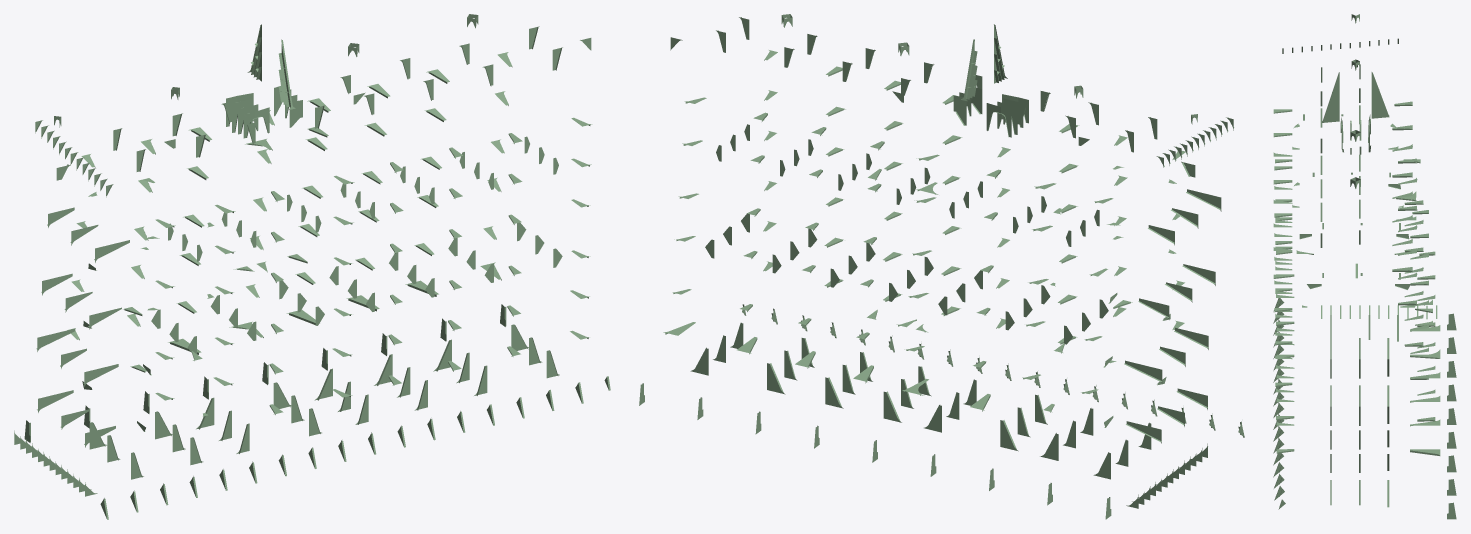
The model's file is NO_2_WING_WATER_BLT_TK_SB.glb.
The picture shows the model from 3 angles, left to right: view 1: azimuth 30°, elevation 25°; view 2: azimuth 150°, elevation 25°; view 3: azimuth 270°, elevation 25°; orthographic projection. The views are drawn at different scales.
Visible parts, largest first — view 1: no part large enough to name; view 2: no part large enough to name; view 3: PL_CraneSeatBracketxNo2SideTankS_012001-40_NVE36_2014, PL_CraneSeatBracketxNo2SideTankS_011002-40_NVE36_2014.
Boxes of the visible parts, left/top/right/bottom form: PL_CraneSeatBracketxNo2SideTankS_012001-40_NVE36_2014: left=1322, top=72, right=1339, bottom=122; PL_CraneSeatBracketxNo2SideTankS_011002-40_NVE36_2014: left=1375, top=81, right=1388, bottom=118.
Size of the model in its own units: 47.16 by 34.37 by 17.18.
